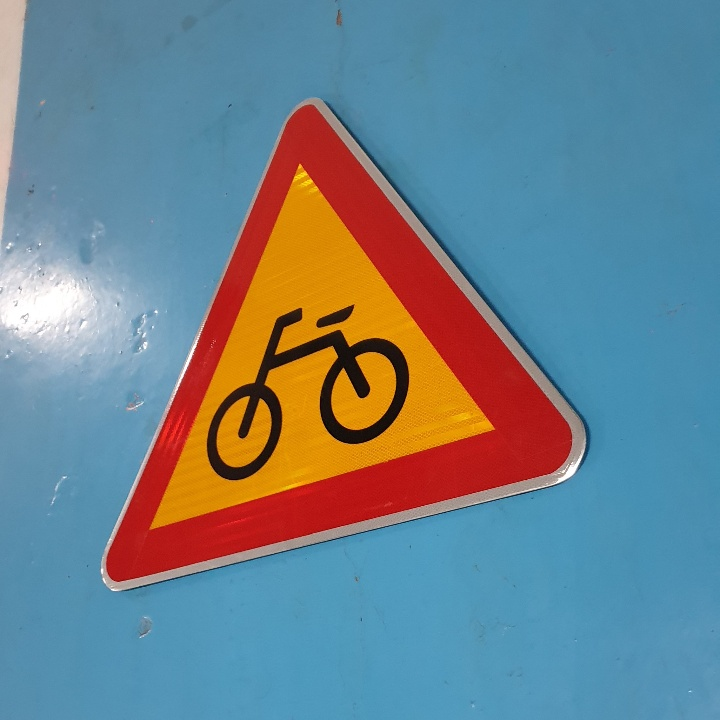bicycle: (97, 97, 588, 592)
